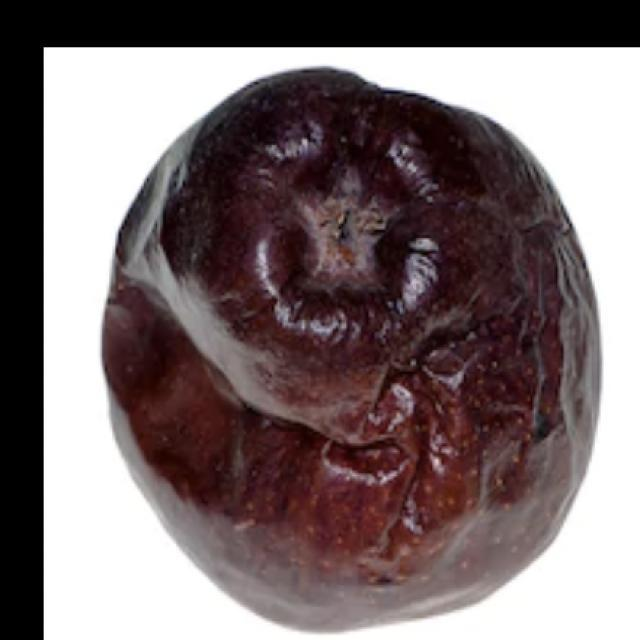Rotten: (100, 54, 604, 640)
